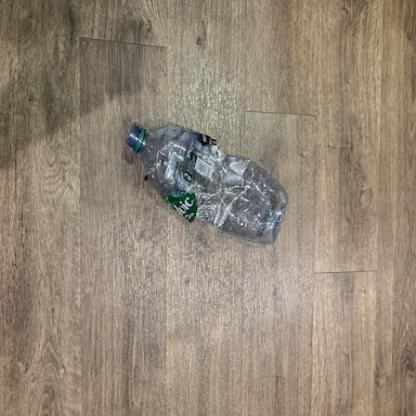trash: (122, 121, 292, 251)
